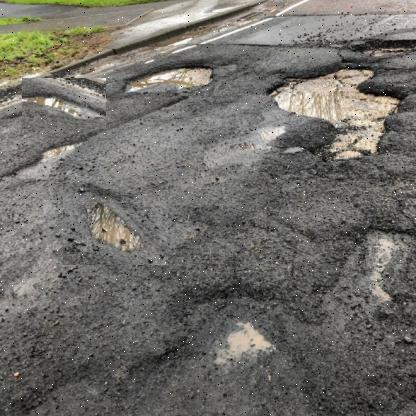pothole_water: (62, 181, 168, 266), (114, 43, 228, 108), (21, 78, 106, 130)
